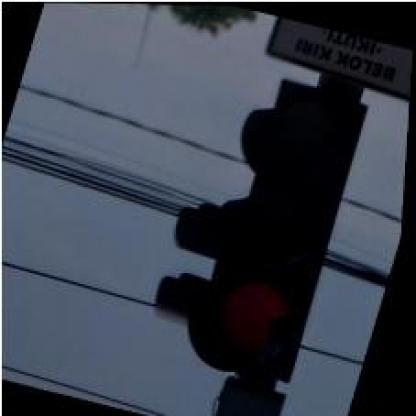red: (175, 74, 375, 391)
